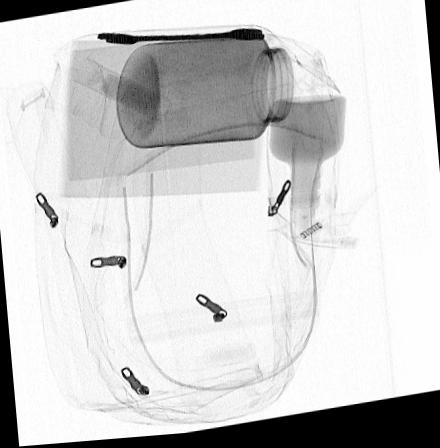Wrench: (96, 31, 266, 49)
